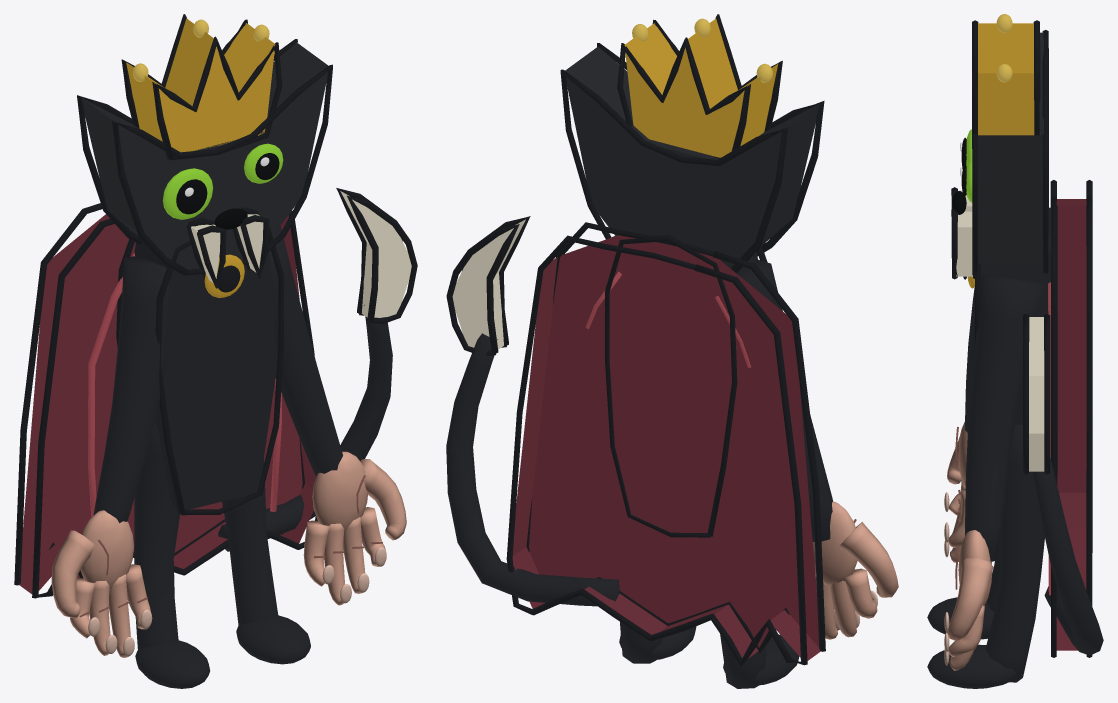
Rendered from alpha_cat.glb.
The picture shows the model from 3 angles, left to right: view 1: azimuth 30°, elevation 25°; view 2: azimuth 150°, elevation 25°; view 3: azimuth 270°, elevation 25°; orthographic projection. The views are drawn at different scales.
Parts seen in each view (by area): view 1: alpha_cat_Game; view 2: alpha_cat_Game; view 3: alpha_cat_Game.
Boxes of the visible parts, bbox=[...] form: alpha_cat_Game: bbox=[14, 14, 417, 688]; alpha_cat_Game: bbox=[446, 14, 898, 688]; alpha_cat_Game: bbox=[927, 14, 1103, 688].
Bounding box in the file's own units: 3.13 × 4.85 × 1.21.
